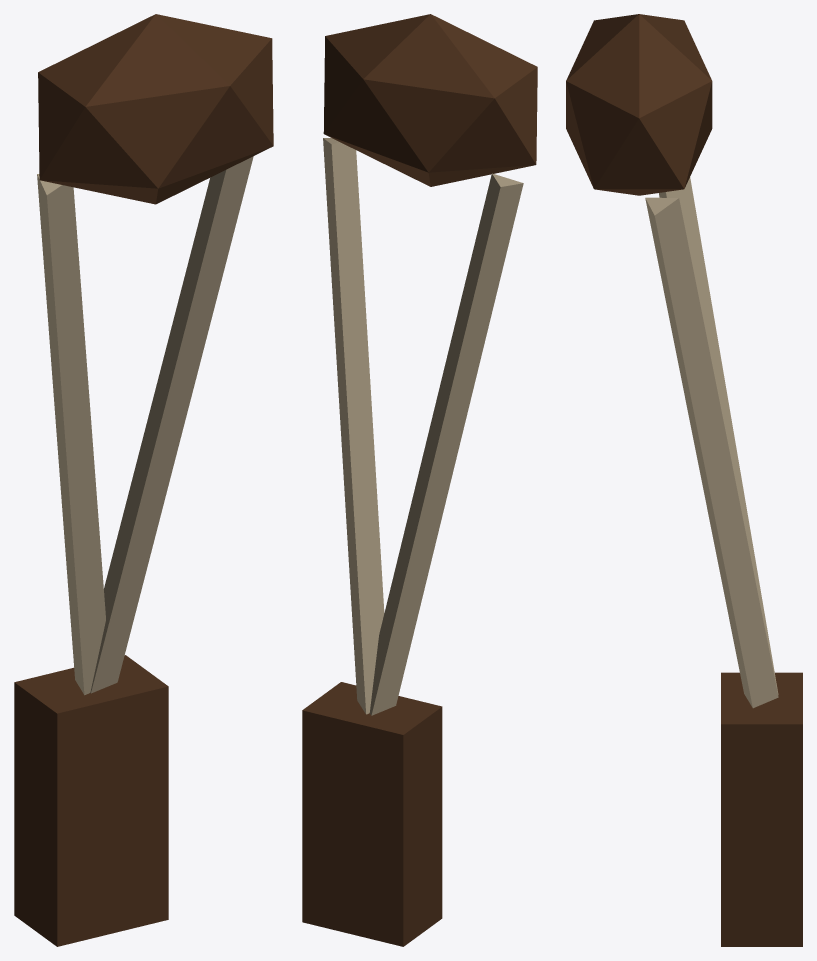
File: gear_sling.glb
3 renders of one model, left to right at view 1: azimuth 30°, elevation 25°; view 2: azimuth 150°, elevation 25°; view 3: azimuth 270°, elevation 25°, orthographic. The views are drawn at different scales.
Parts seen in each view (by area): view 1: gear_sling; view 2: gear_sling; view 3: gear_sling.
Boxes of the visible parts, x1,y1,x2,y2 form: gear_sling: [14, 14, 273, 946]; gear_sling: [302, 14, 537, 946]; gear_sling: [566, 14, 802, 946].
Bounding box in the file's own units: 0.0751 × 0.2934 × 0.0694.
